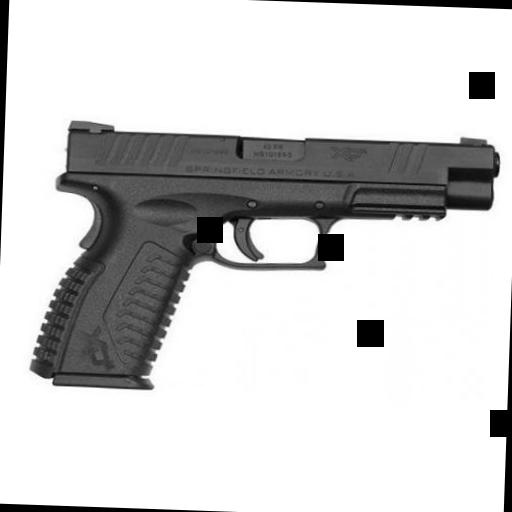Handgun: (22, 115, 500, 405)
